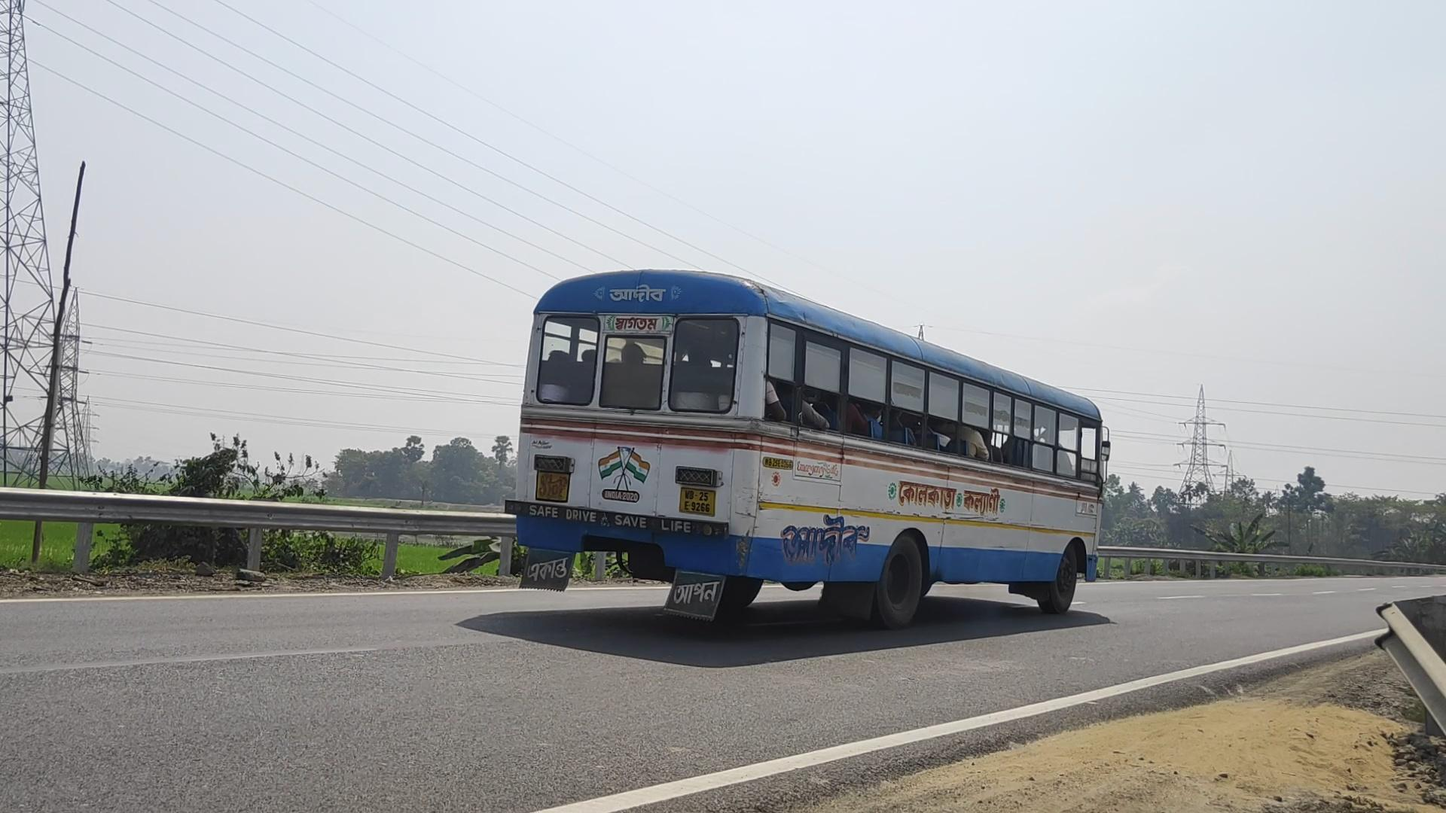Bus: (505, 269, 1110, 629)
